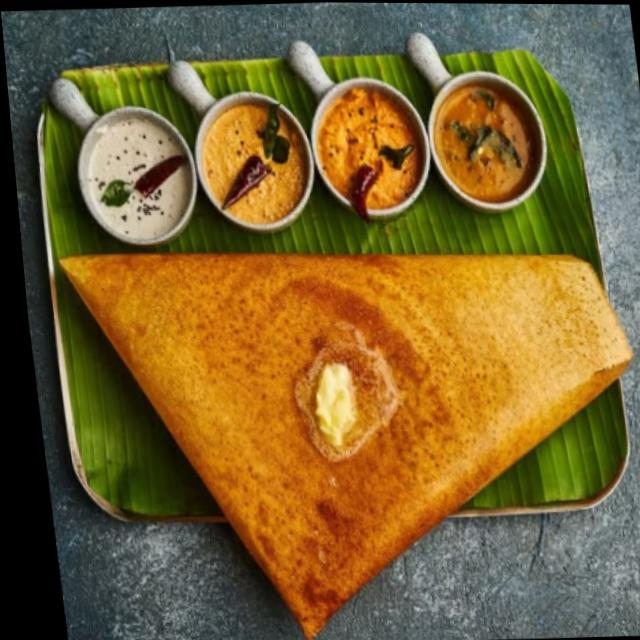DOSA: (51, 256, 639, 640)
RED CHUTNEY: (300, 78, 429, 226), (187, 98, 314, 237)
SAMBAR: (418, 71, 546, 208)
WHITE CHUTNEY: (71, 106, 193, 250)
